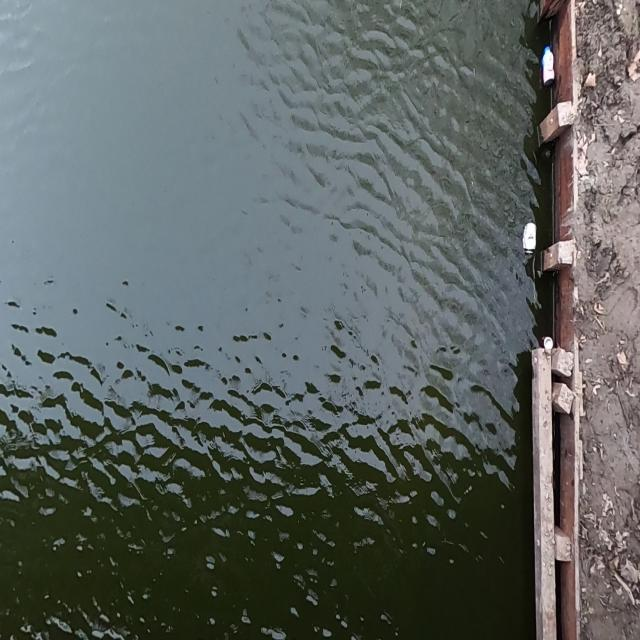Non plastique: (517, 210, 543, 263), (541, 327, 558, 356)
